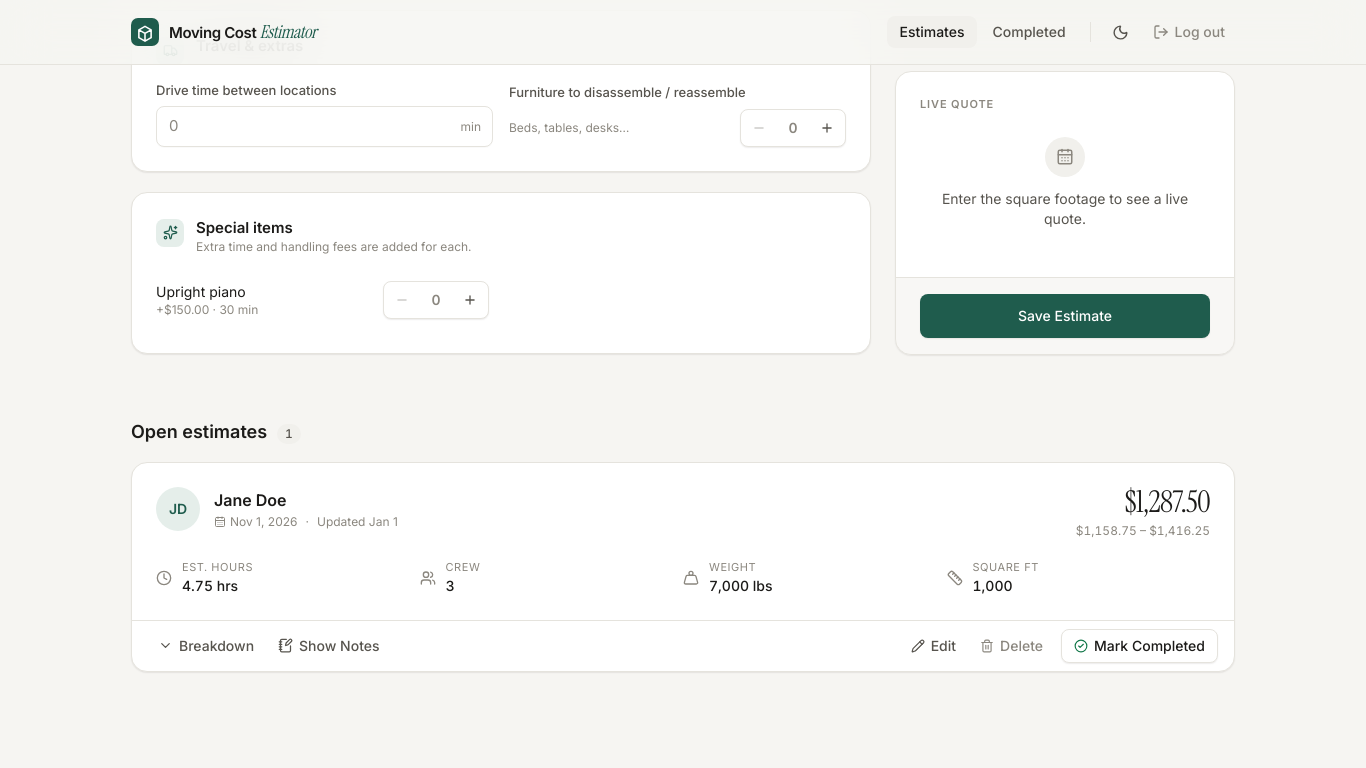
Scenario: Estimate page › marks an estimate completed and moves it off the open list
(page scrolled)
Expected: the heading "Jane Doe" is shown, [214, 490, 286, 510]
Click the button "Mark Completed".
click(1140, 646)  # box [1061, 629, 1218, 663]
(page scrolled)
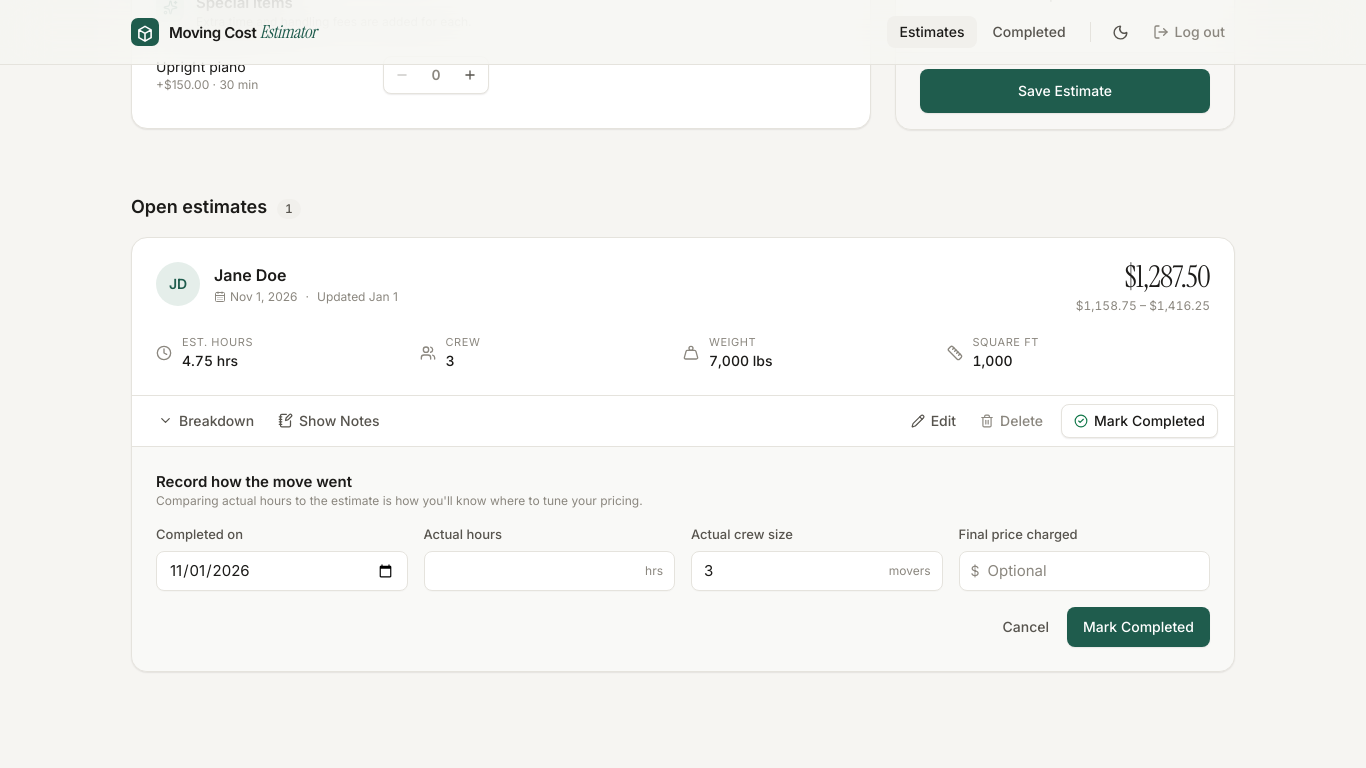
Expected: the number field labelled "Actual crew size" holds "3", [691, 551, 942, 591]
Type "5" into the number field labelled "Actual hours".
click(549, 571); type("5")  # box [424, 551, 675, 591]
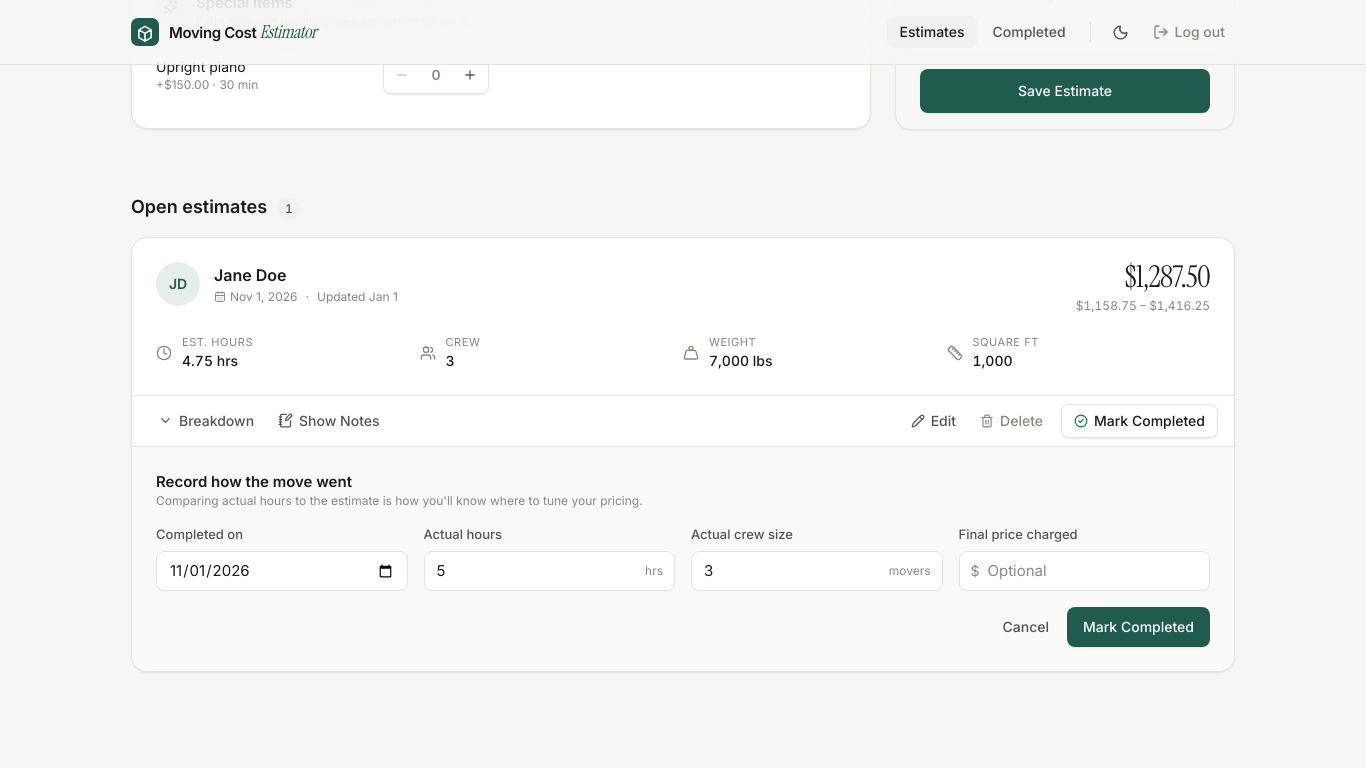
Click the button "Mark Completed" below "Final price charged".
click(1138, 627)  # box [1067, 607, 1210, 647]
(page scrolled)
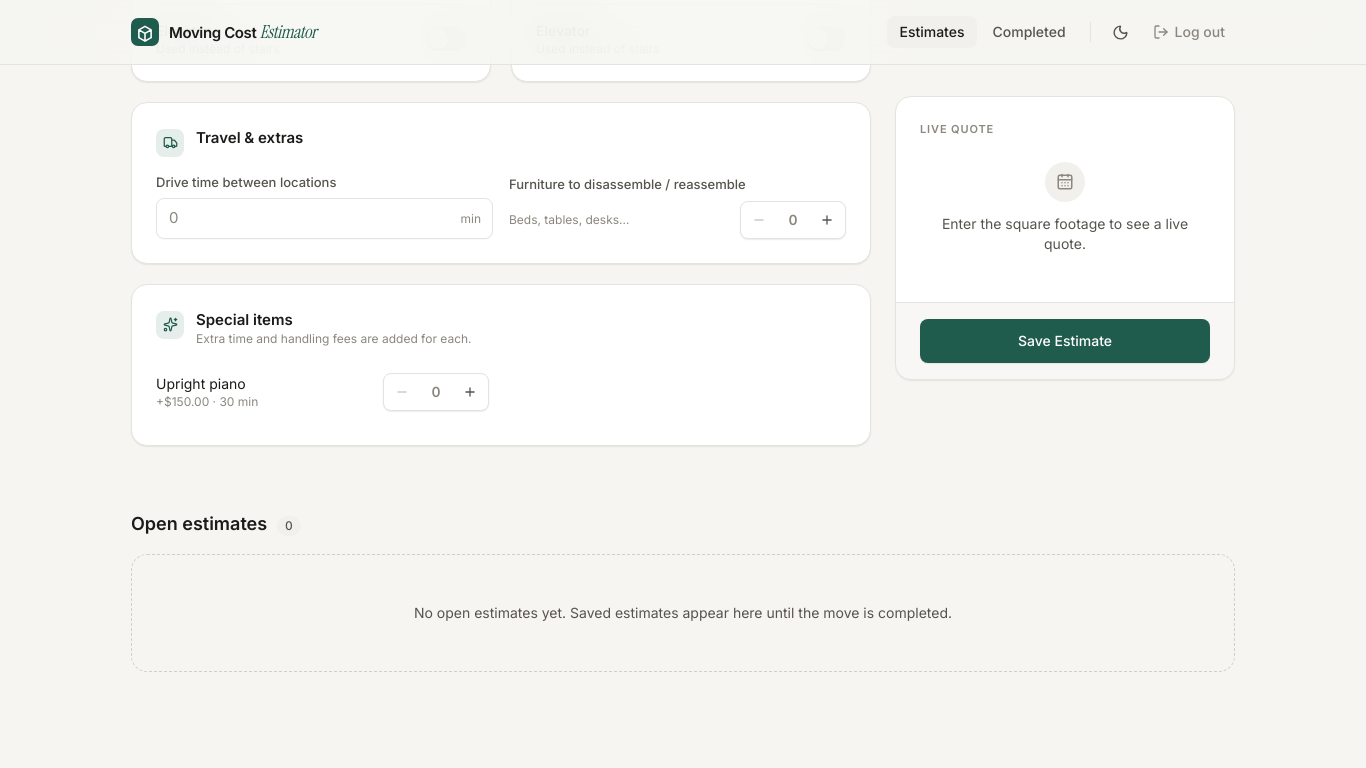
Expected: the heading "Jane Doe" is gone
